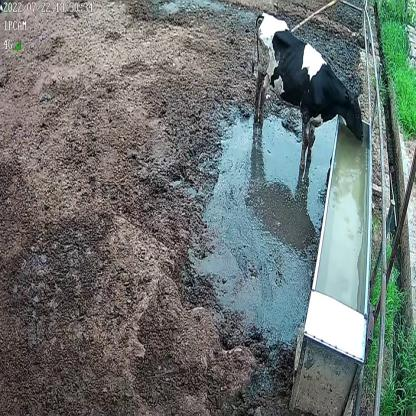cow: (250, 12, 364, 170)
